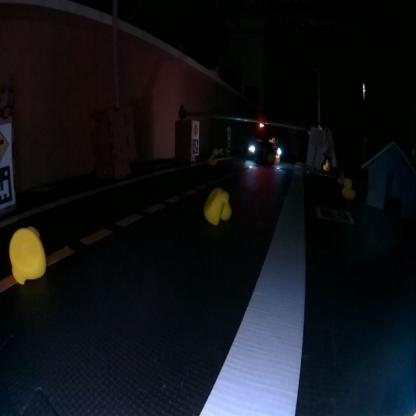Duckie: (9, 227, 46, 283), (203, 187, 230, 225), (342, 178, 355, 198), (206, 154, 216, 165), (322, 163, 329, 170)
Duckiebot: (247, 139, 281, 163)
Intersection sign: (0, 124, 12, 163)
QR code: (315, 206, 354, 224), (0, 166, 15, 208), (192, 139, 198, 153), (226, 140, 231, 151)
Signal sign: (192, 123, 198, 136)
Traffic light: (257, 120, 264, 128)
